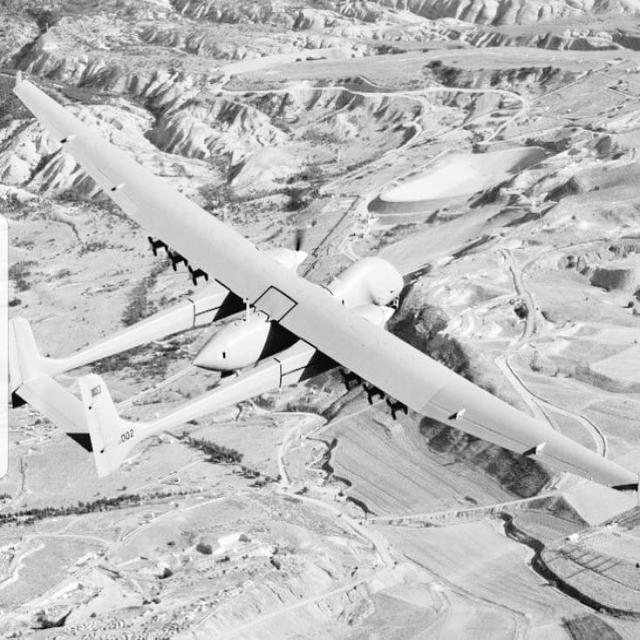iha: (1, 4, 639, 486)
